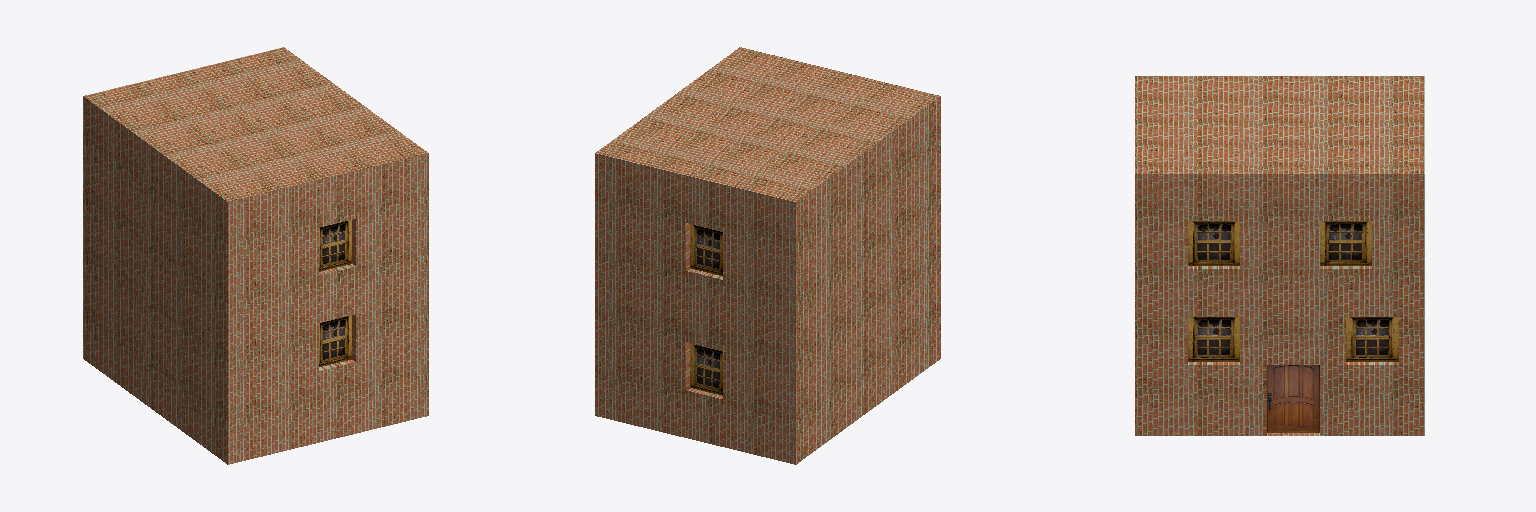
3 renders of one model, left to right at view 1: azimuth 30°, elevation 25°; view 2: azimuth 150°, elevation 25°; view 3: azimuth 270°, elevation 25°, orthographic.
Visible parts, largest first — view 1: Cube; view 2: Cube; view 3: Cube.
Part boxes in pixels (x1,y1,x2,y2): Cube: (83,47,428,464); Cube: (595,47,940,464); Cube: (1135,76,1424,435).
Bounding box in the file's own units: 16 × 20 × 20.
3 materials, 3 textured.